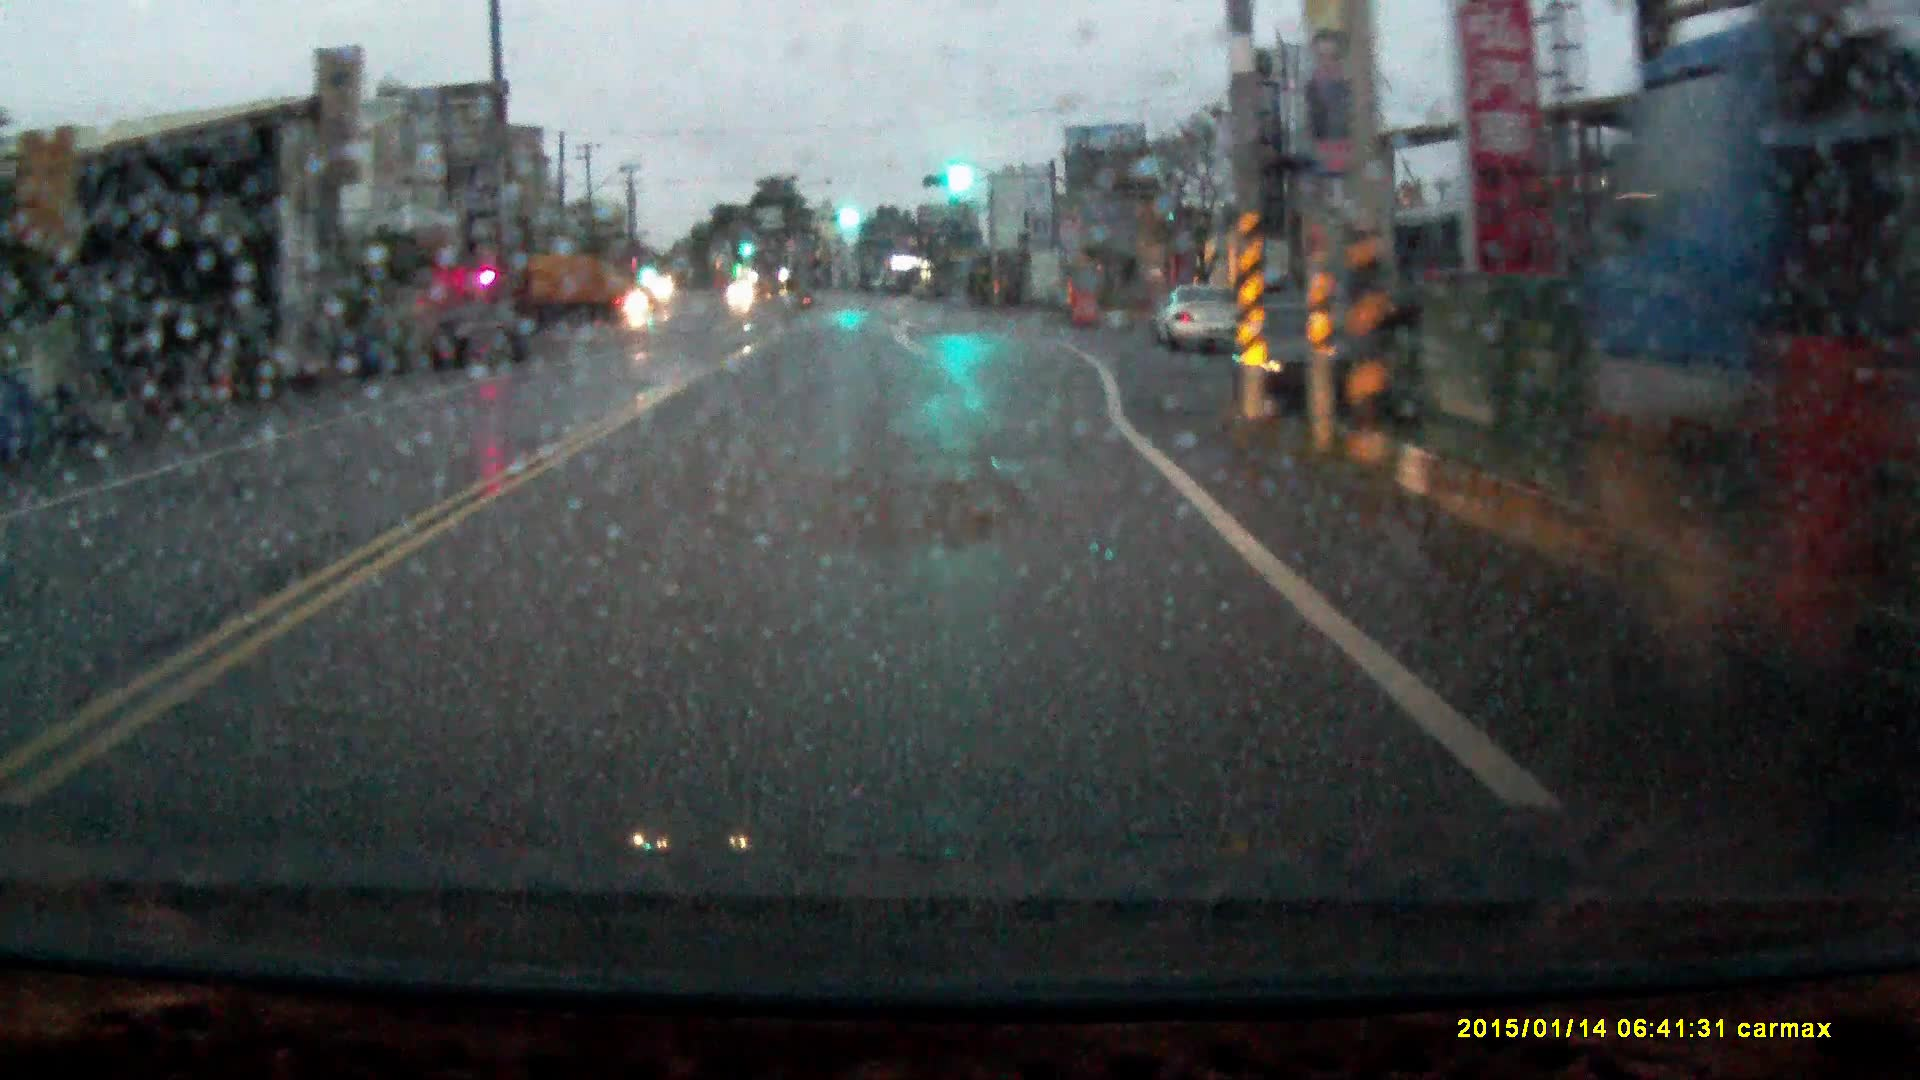rider: (623, 273, 654, 335)
vehicle: (1220, 295, 1384, 425), (512, 258, 621, 333), (431, 307, 536, 374), (1149, 288, 1236, 355)
